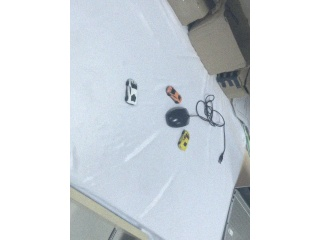mouse: (165, 107, 193, 128)
toy_car: (164, 82, 182, 103), (177, 127, 192, 152), (125, 79, 138, 105)
